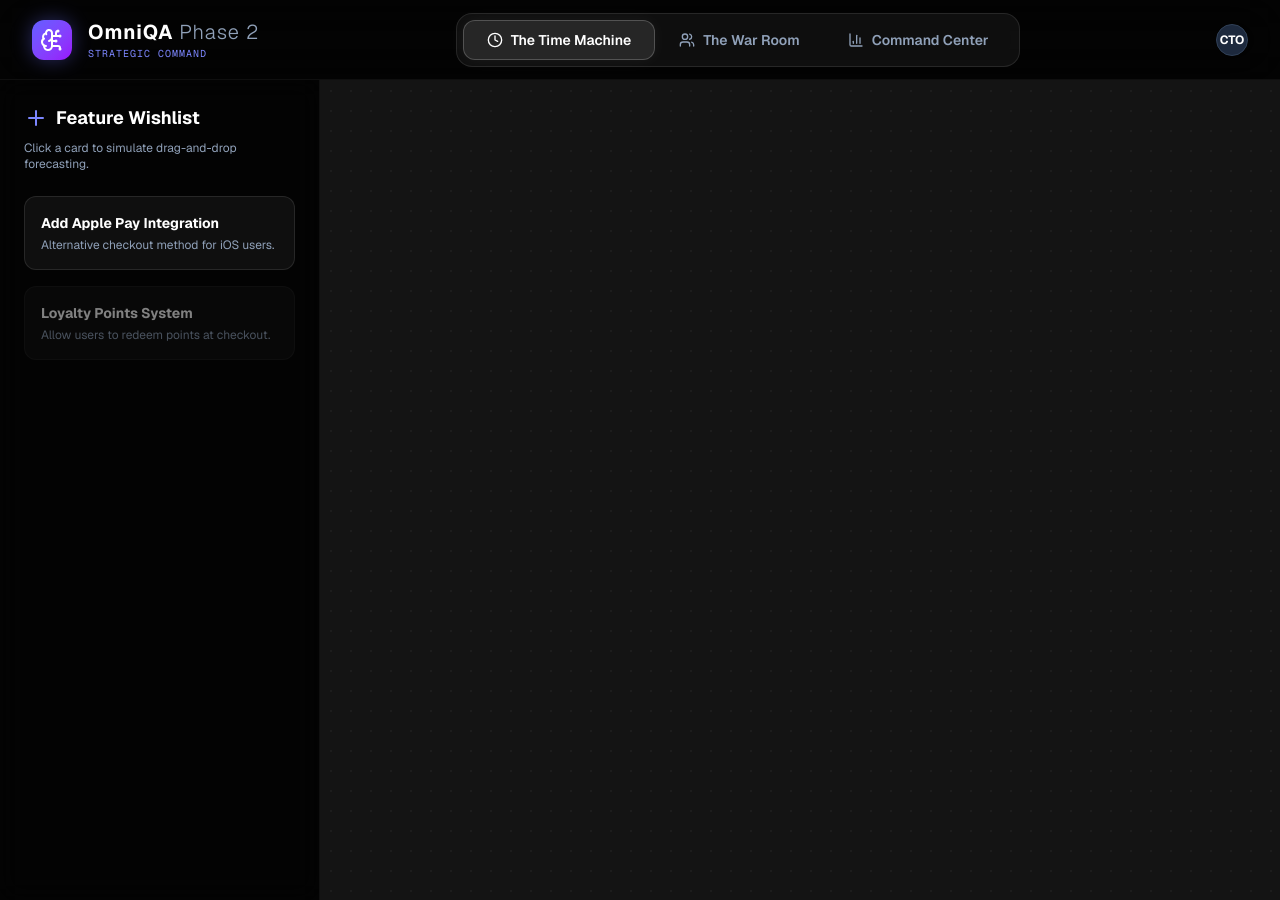
OmniQAExecutive Component › should switch to Command Center tab and display KPIs and charts
This screenshot has width=1280, height=900.
Step 1. Click the button "Command Center" → (918, 40), box x1=824 y1=20 x2=1012 y2=60
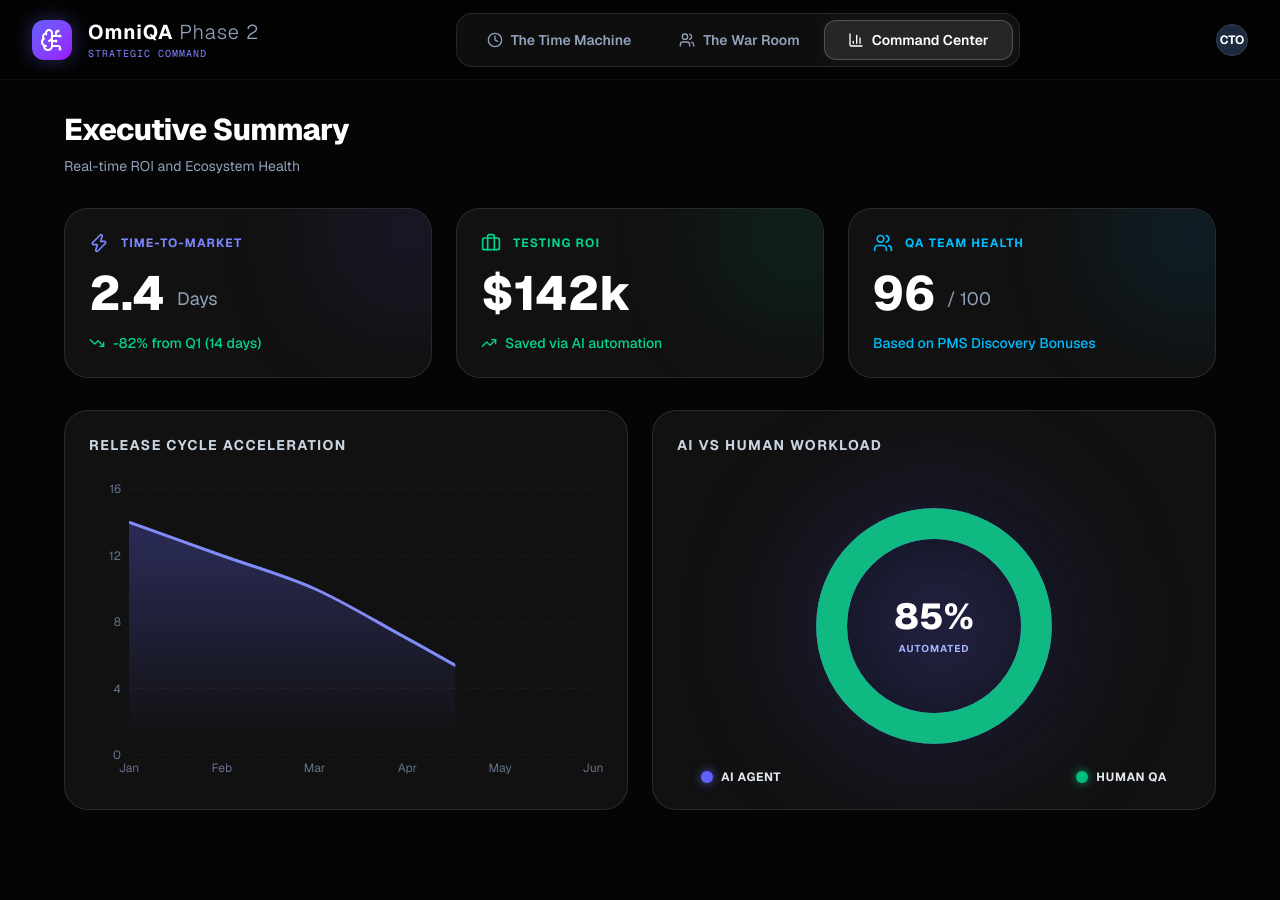
Now the heading "Executive Summary" is shown, box x1=64 y1=110 x2=349 y2=149
Now the text "Real-time ROI and Ecosystem Health" is shown, box x1=64 y1=157 x2=300 y2=175
Now the text "Time-to-Market" is shown, box x1=121 y1=235 x2=242 y2=251
